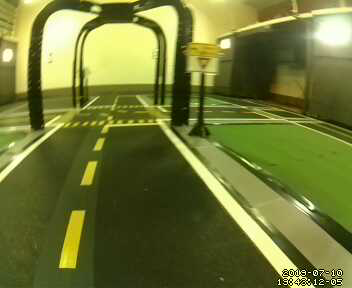Turn Yield: (189, 40, 219, 74)
